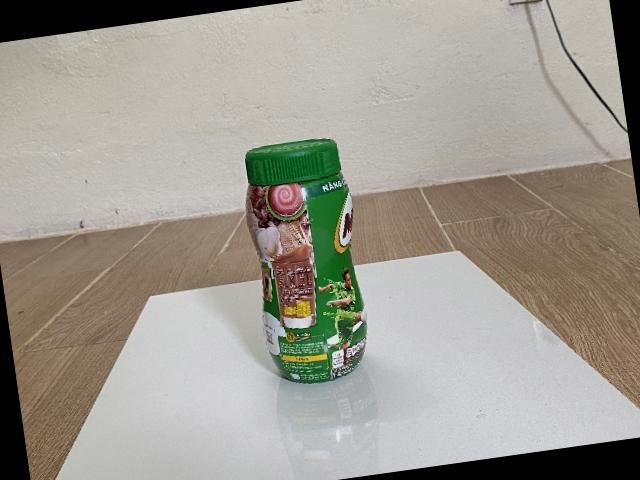milo: (245, 138, 368, 385)
